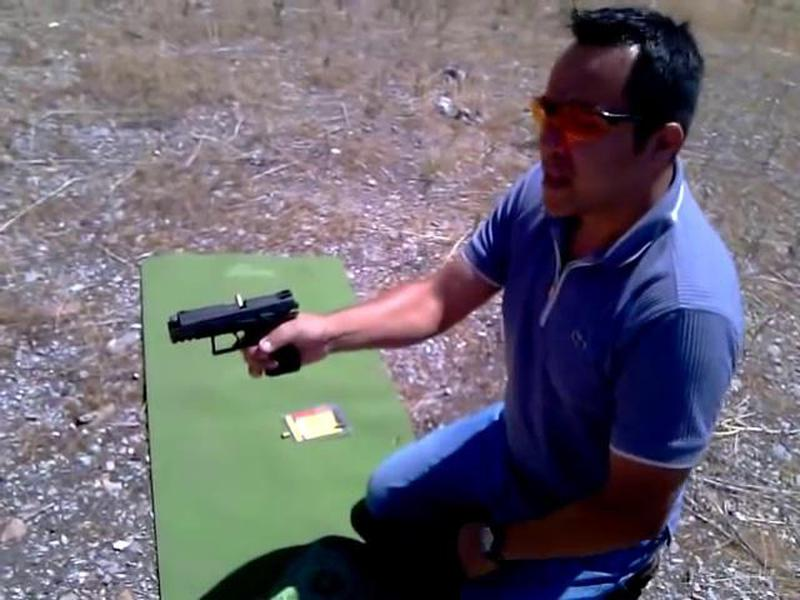Pistola: (157, 281, 324, 383)
